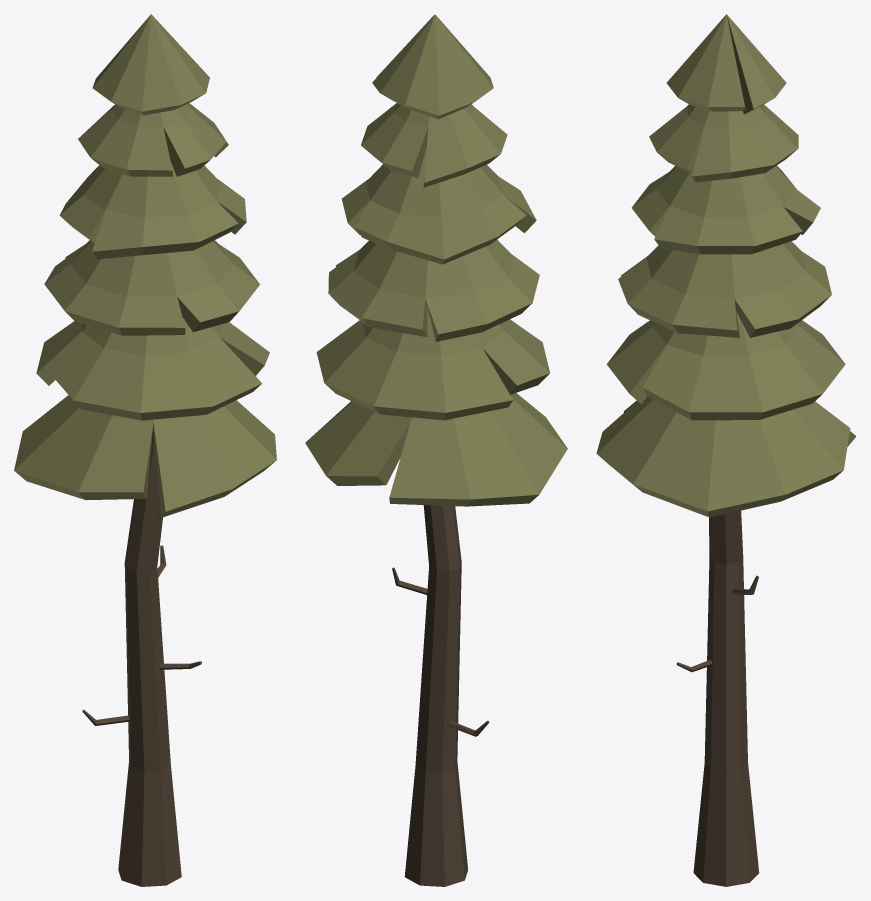
The model's file is SM_Envr_Nature_Tree_Pine_Large_03.fbx.
The picture shows the model from 3 angles, left to right: view 1: azimuth 30°, elevation 25°; view 2: azimuth 150°, elevation 25°; view 3: azimuth 270°, elevation 25°; orthographic projection.
Visible parts, largest first — view 1: SM_Envr_Nature_Tree_Pine_Large_03; view 2: SM_Envr_Nature_Tree_Pine_Large_03; view 3: SM_Envr_Nature_Tree_Pine_Large_03.
Part boxes in pixels (x1,y1,x2,y2): SM_Envr_Nature_Tree_Pine_Large_03: [14, 14, 276, 886]; SM_Envr_Nature_Tree_Pine_Large_03: [305, 14, 567, 886]; SM_Envr_Nature_Tree_Pine_Large_03: [596, 14, 856, 886].
Bounding box in the file's own units: 371 × 1296 × 355.
